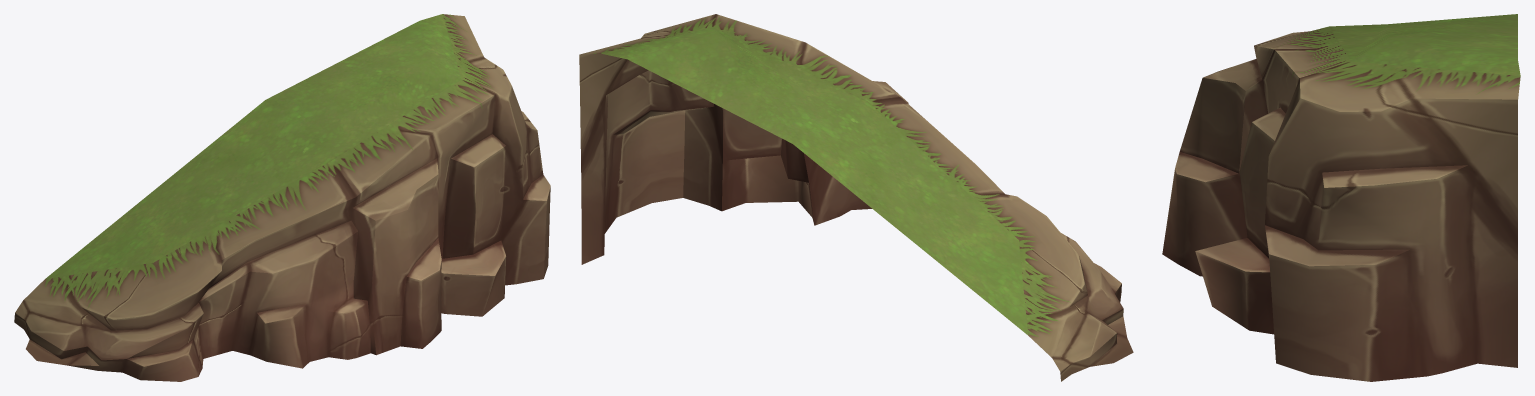
The model's file is Cliff-Hill #2.FBX.
The picture shows the model from 3 angles, left to right: view 1: azimuth 30°, elevation 25°; view 2: azimuth 150°, elevation 25°; view 3: azimuth 270°, elevation 25°; orthographic projection. The views are drawn at different scales.
Parts seen in each view (by area): view 1: Cliff-Hill #2; view 2: Cliff-Hill #2; view 3: Cliff-Hill #2.
Part boxes in pixels (x1,y1,x2,y2): Cliff-Hill #2: (14, 14, 550, 381); Cliff-Hill #2: (579, 14, 1133, 381); Cliff-Hill #2: (1162, 14, 1520, 381).
Size of the model in its own units: 836 by 330 by 384.
Materials: 1 (1 with a texture image).
